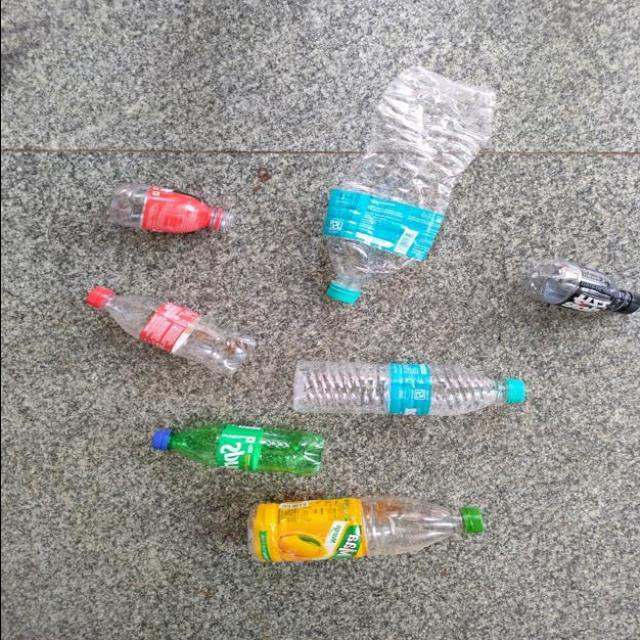plastik: (323, 67, 494, 303), (248, 497, 484, 562), (86, 286, 254, 373), (292, 360, 525, 416), (152, 424, 324, 475), (109, 182, 232, 234), (525, 259, 640, 314)
